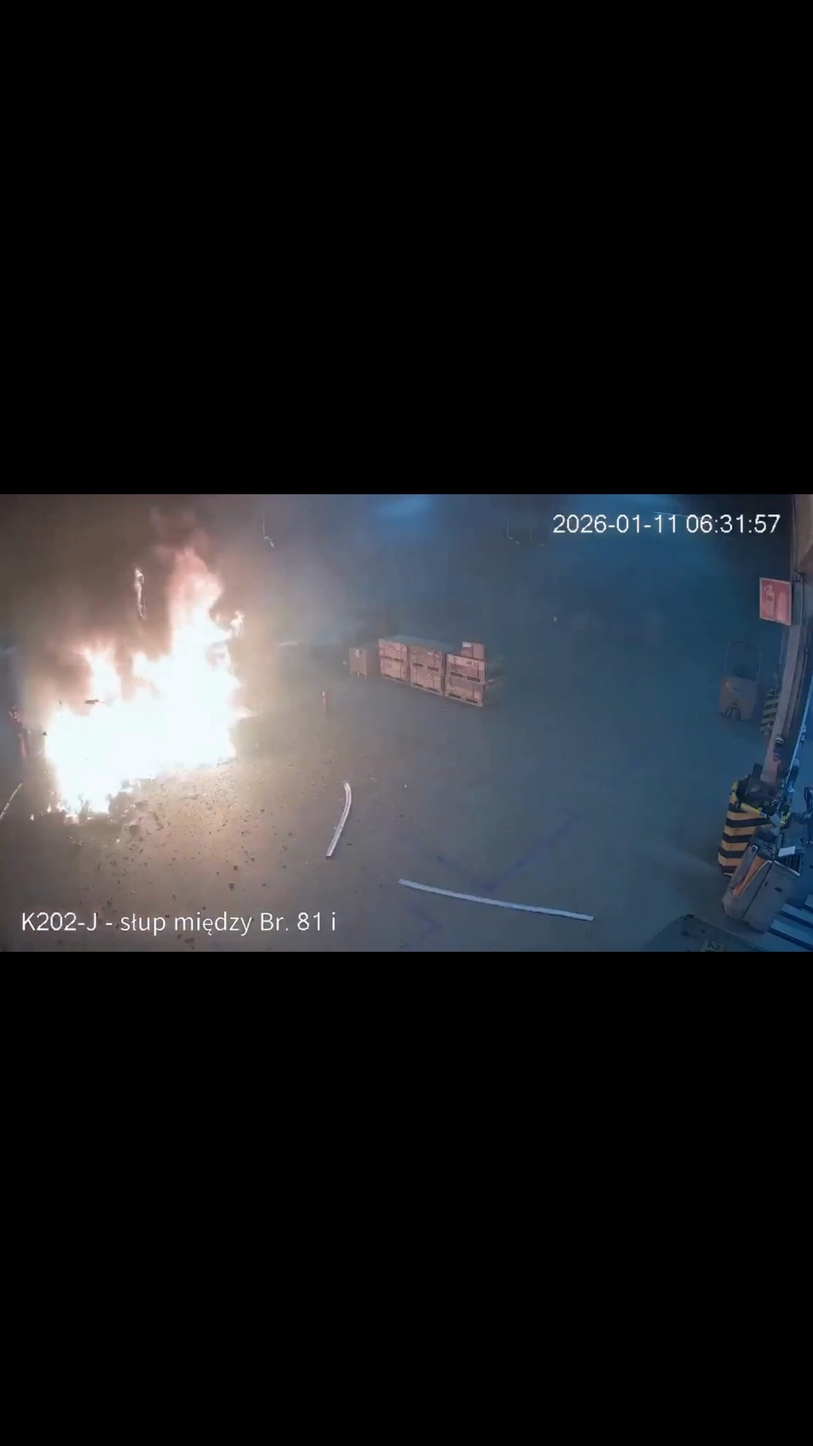fire: (38, 545, 251, 826)
smoke: (2, 496, 385, 703)
